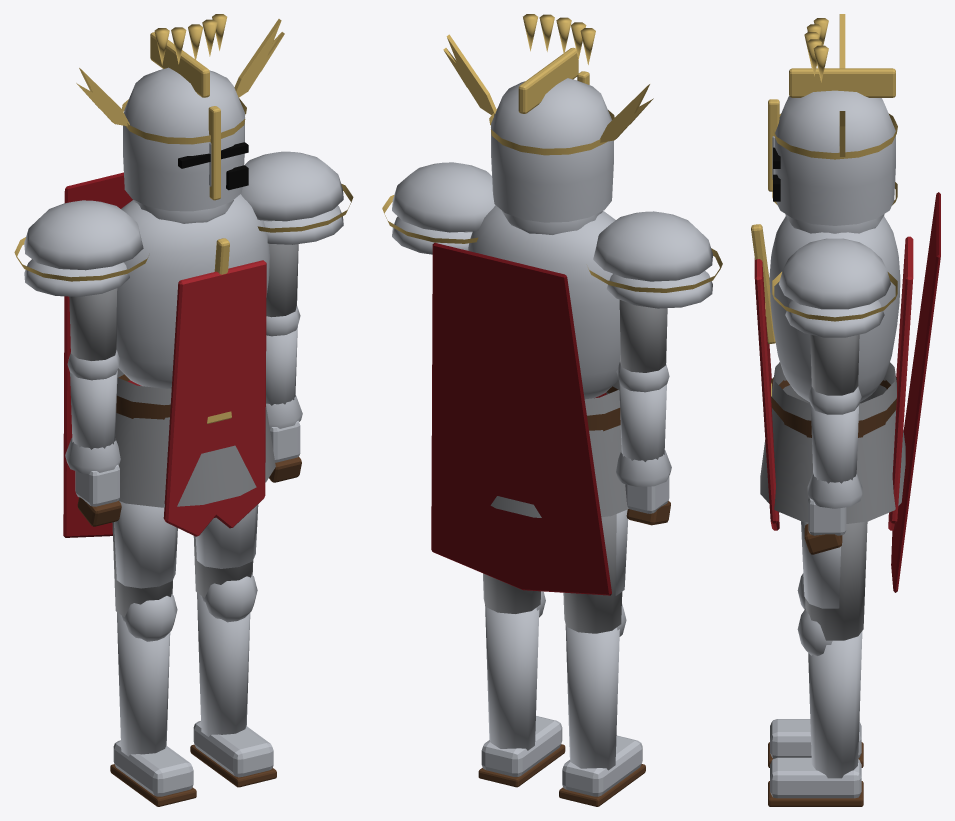
File: hero_knight.glb
3 renders of one model, left to right at view 1: azimuth 30°, elevation 25°; view 2: azimuth 150°, elevation 25°; view 3: azimuth 270°, elevation 25°, orthographic.
Visible parts, largest first — view 1: tabard, chest, helm.001, mailskirt, pauldron.001, greave.001, greave, pauldron, cuisse.001, cape, vambrace.001, upperarm.001 (+29 smaller); view 2: cape, helm.001, chest, greave.001, greave, pauldron.001, pauldron, mailskirt, vambrace.001, upperarm.001, thigh.001, sabaton (+17 smaller); view 3: helm.001, mailskirt, chest, greave, pauldron, cape, thigh, vambrace, sabaton, crestfin, upperarm, tabardB (+17 smaller).
Part boxes in pixels (bbox=[...]): tabard: bbox=[163, 260, 266, 536]; chest: bbox=[116, 194, 269, 388]; helm.001: bbox=[123, 67, 244, 211]; mailskirt: bbox=[115, 368, 275, 507]; pauldron.001: bbox=[24, 200, 143, 270]; greave.001: bbox=[117, 612, 170, 756]; greave: bbox=[197, 592, 250, 736]; pauldron: bbox=[241, 151, 343, 221]; cuisse.001: bbox=[114, 501, 177, 588]; cape: bbox=[63, 172, 132, 537]; vambrace.001: bbox=[70, 370, 117, 449]; upperarm.001: bbox=[69, 288, 117, 360]; cape: bbox=[431, 243, 611, 595]; helm.001: bbox=[491, 78, 613, 222]; chest: bbox=[468, 205, 620, 399]; greave.001: bbox=[565, 625, 619, 770]; greave: bbox=[485, 605, 539, 750]; pauldron.001: bbox=[593, 211, 712, 281]; pauldron: bbox=[392, 162, 495, 232]; mailskirt: bbox=[490, 380, 628, 517]; vambrace.001: bbox=[619, 382, 666, 461]; upperarm.001: bbox=[619, 300, 667, 372]; thigh.001: bbox=[563, 514, 622, 633]; sabaton: bbox=[481, 716, 562, 776]; helm.001: bbox=[775, 90, 895, 225]; mailskirt: bbox=[760, 362, 905, 523]; chest: bbox=[769, 216, 900, 401]; greave: bbox=[808, 631, 862, 778]; pauldron: bbox=[779, 238, 890, 309]; cape: bbox=[891, 192, 940, 592]; thigh: bbox=[805, 521, 867, 640]; vambrace: bbox=[810, 405, 858, 483]; sabaton: bbox=[770, 757, 861, 798]; crestfin: bbox=[789, 68, 895, 97]; upperarm: bbox=[810, 334, 859, 395]; tabardB: bbox=[888, 236, 913, 530].
Size of the model in its own units: 0.968 by 2.15 by 0.4964.
